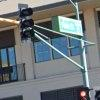traffic lights: (18, 5, 35, 41), (77, 86, 91, 100)
